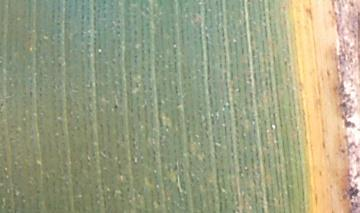tarspot: (114, 104, 118, 110)
